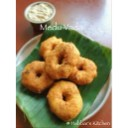vada: (48, 80, 82, 122), (45, 42, 79, 79), (21, 61, 53, 90), (68, 54, 96, 84)
